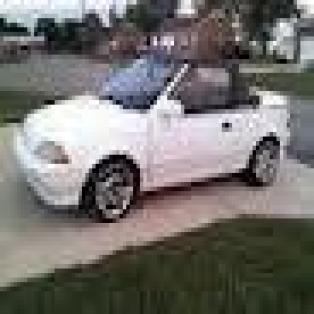Auto: (17, 50, 290, 218)
